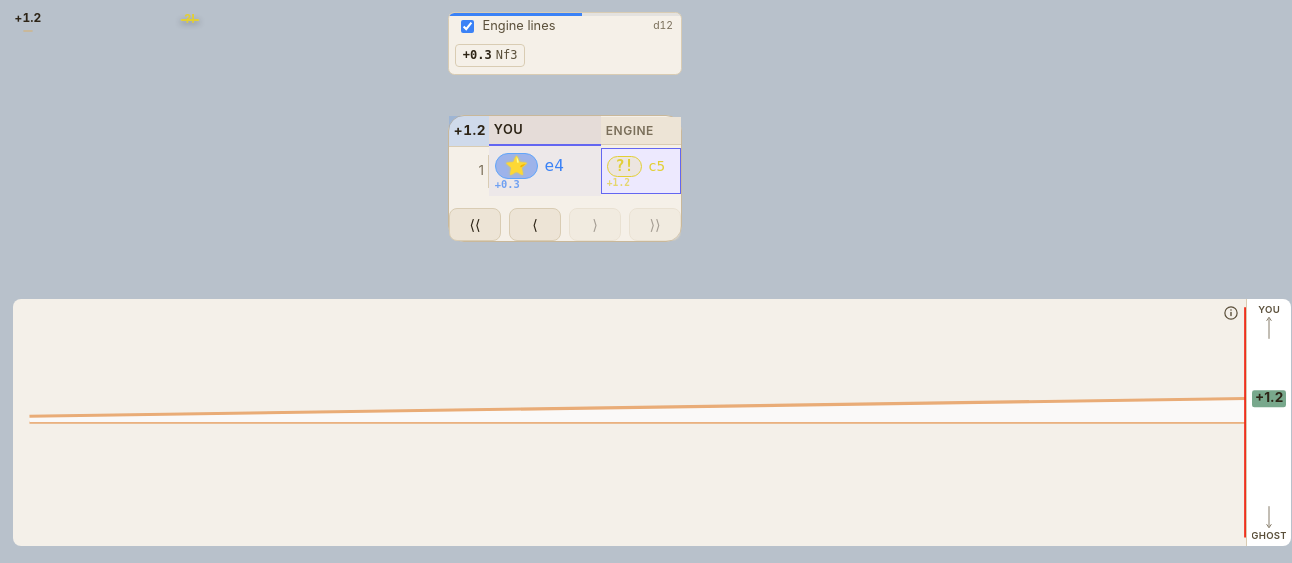
Test: AnalysisBoard MoveList › hides engine-only display data when engine lines are disabled
Expected: the text "d12" is shown, x1=653 y1=19 x2=673 y2=32
Expected: the progress indicator named "Engine analysis depth" is shown, x1=449 y1=13 x2=681 y2=16
Step 1. Click the checkbox labelled "Engine lines" → x=468, y=26, box x1=461 y1=20 x2=474 y2=33
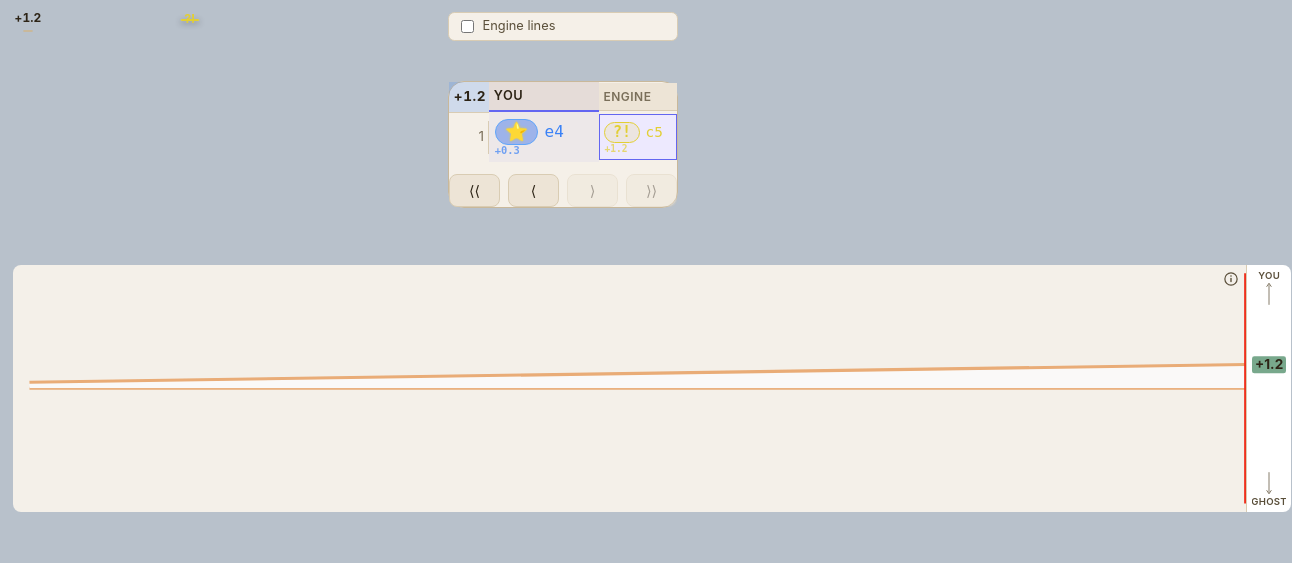
Expected: the text "d12" is gone
